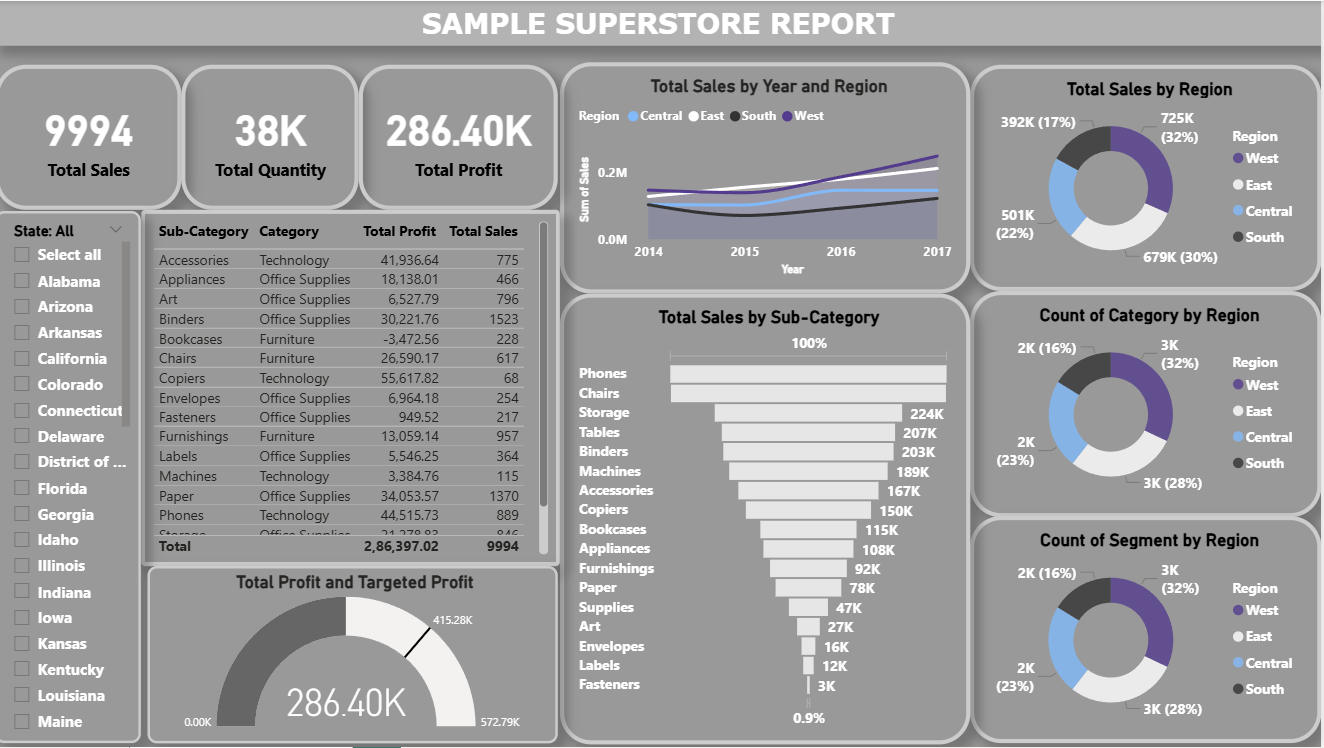

The dashboard page shown, as its layout file describes it:
{"tool":"powerbi","page":{"name":"sample superstore report","canvas":[1280,720],"ordinal":0},"visuals":[{"type":"textbox","box":[0,0,1280,43.4],"z":0},{"type":"donutChart","title":"Total Sales by Region","fields":{"Category":["Orders.Region"],"Y":["Sum(Orders.Sales)"]},"box":[941,61.5,339,218.4],"z":1000},{"type":"donutChart","fields":{"Category":["Orders.Region"],"Y":["CountNonNull(Orders.Category)"]},"box":[941,279.9,339,218.4],"z":2000},{"type":"donutChart","fields":{"Category":["Orders.Region"],"Y":["CountNonNull(Orders.Segment)"]},"box":[941,497.1,339,219.6],"z":3000},{"type":"lineChart","title":"Total Sales by Year and Region","fields":{"Category":["Orders.Order Date.Variation.Date Hierarchy.Year","Orders.Order Date.Variation.Date Hierarchy.Quarter","Orders.Order Date.Variation.Date Hierarchy.Month","Orders.Order Date.Variation.Date Hierarchy.Day"],"Y":["Sum(Orders.Sales)"],"Series":["Orders.Region"]},"box":[545.3,59.1,395.7,223.2],"z":4000},{"type":"funnel","title":"Total Sales by Sub-Category","fields":{"Y":["Sum(Orders.Sales)"],"Category":["Orders.Sub-Category"]},"box":[545.3,282.3,395.7,435.5],"z":5000},{"type":"card","fields":{"Values":["CountNonNull(Orders.Sales)"]},"box":[0,61.5,179.8,139.9],"z":6000},{"type":"card","fields":{"Values":["Sum(Orders.Quantity)"]},"box":[179.8,61.5,171.3,139.9],"z":7000},{"type":"card","fields":{"Values":["Sum(Orders.Profit)"]},"box":[351.1,61.5,191.8,139.9],"z":8000},{"type":"tableEx","fields":{"Values":["Orders.Sub-Category","Orders.Category","Sum(Orders.Profit)","CountNonNull(Orders.Sales)"]},"box":[141.2,201.5,404.2,343.8],"z":9000},{"type":"slicer","fields":{"Values":["Orders.State"]},"box":[0,202.7,141.2,513.9],"z":10000},{"type":"gauge","fields":{"Y":["Sum(Orders.Profit)"],"TargetValue":["Orders.Measure"]},"box":[147.2,545.3,395.7,171.3],"z":11000}]}

Visuals, with their boxes in screenshot pixels (x1, y1, x2, y2), scaled from the page's 1280x720 canvas onto the 1324x748 screenshot:
textbox: {"left": 0, "top": 0, "right": 1323, "bottom": 45}
"Total Sales by Region" donutChart: {"left": 973, "top": 64, "right": 1323, "bottom": 291}
donutChart - Orders.Region x CountNonNull(Orders.Category): {"left": 973, "top": 291, "right": 1323, "bottom": 518}
donutChart - Orders.Region x CountNonNull(Orders.Segment): {"left": 973, "top": 516, "right": 1323, "bottom": 745}
"Total Sales by Year and Region" lineChart: {"left": 564, "top": 61, "right": 973, "bottom": 293}
"Total Sales by Sub-Category" funnel: {"left": 564, "top": 293, "right": 973, "bottom": 746}
card - CountNonNull(Orders.Sales): {"left": 0, "top": 64, "right": 186, "bottom": 209}
card - Sum(Orders.Quantity): {"left": 186, "top": 64, "right": 363, "bottom": 209}
card - Sum(Orders.Profit): {"left": 363, "top": 64, "right": 562, "bottom": 209}
tableEx - Orders.Sub-Category x Orders.Category: {"left": 146, "top": 209, "right": 564, "bottom": 567}
slicer - Orders.State: {"left": 0, "top": 211, "right": 146, "bottom": 744}
gauge - Sum(Orders.Profit) x Orders.Measure: {"left": 152, "top": 567, "right": 562, "bottom": 744}
